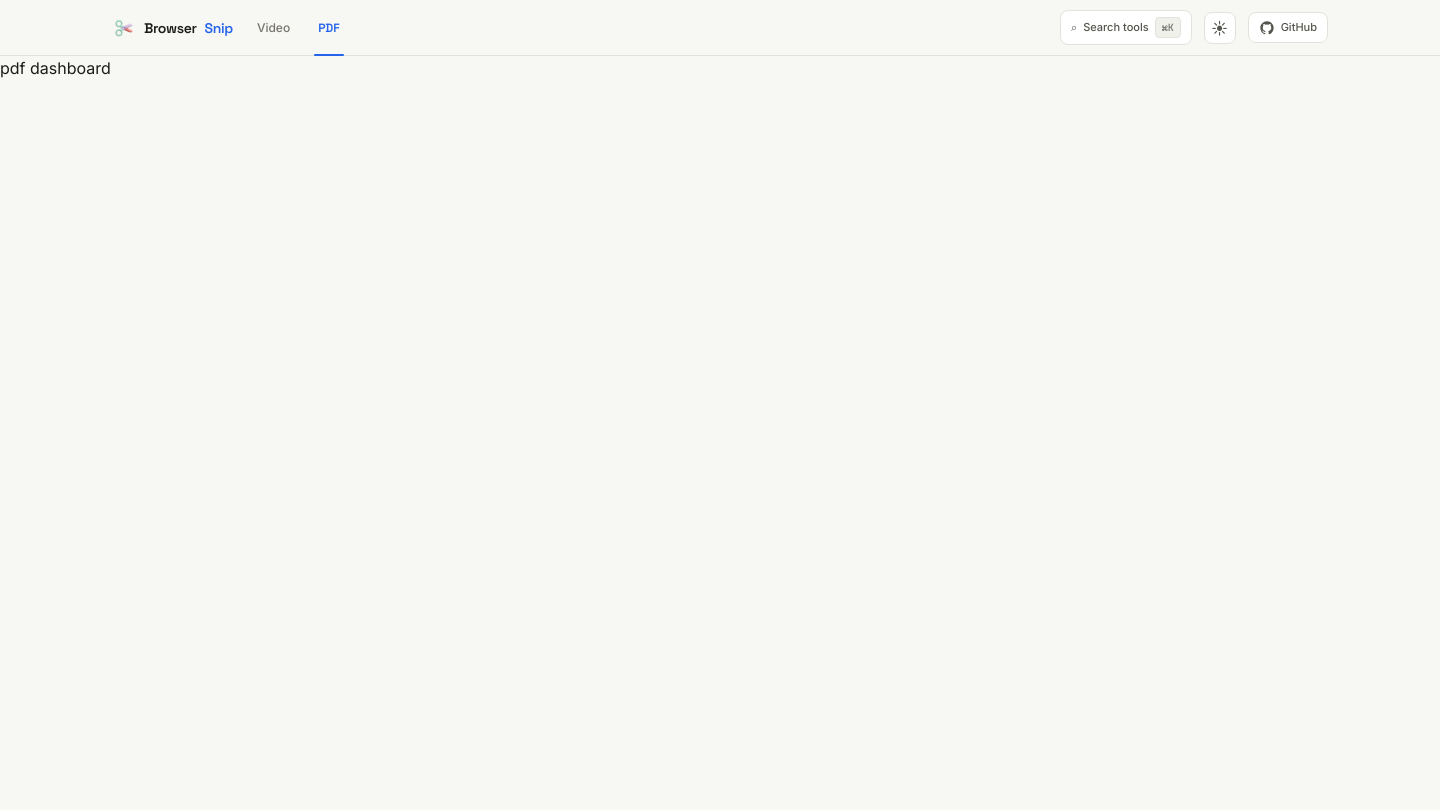
command palette › closes on a click of the row, not only on Enter
Press k
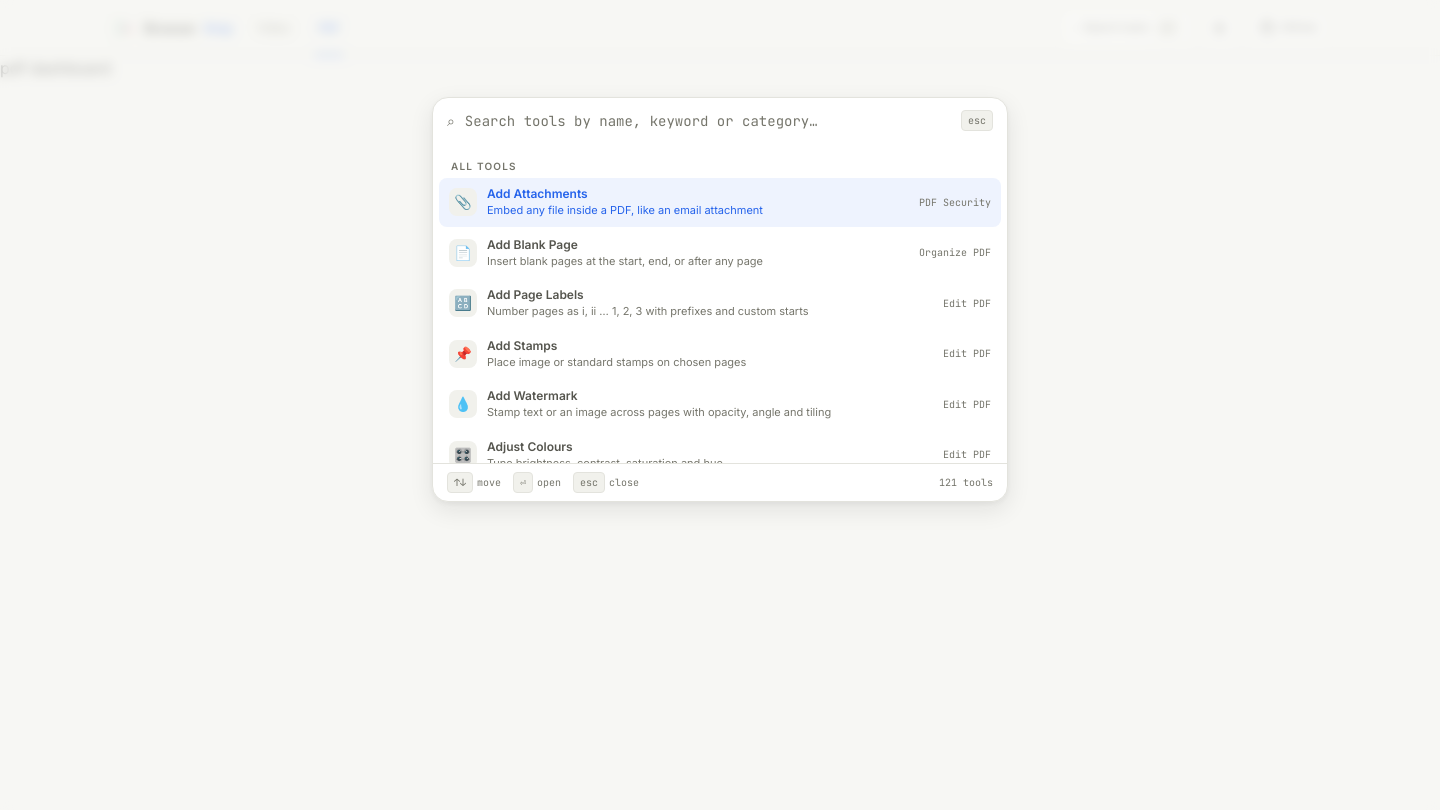
Type "merge" into the dropdown labelled "Search tools".
click(708, 121); type("merge")  # box [465,111,951,131]
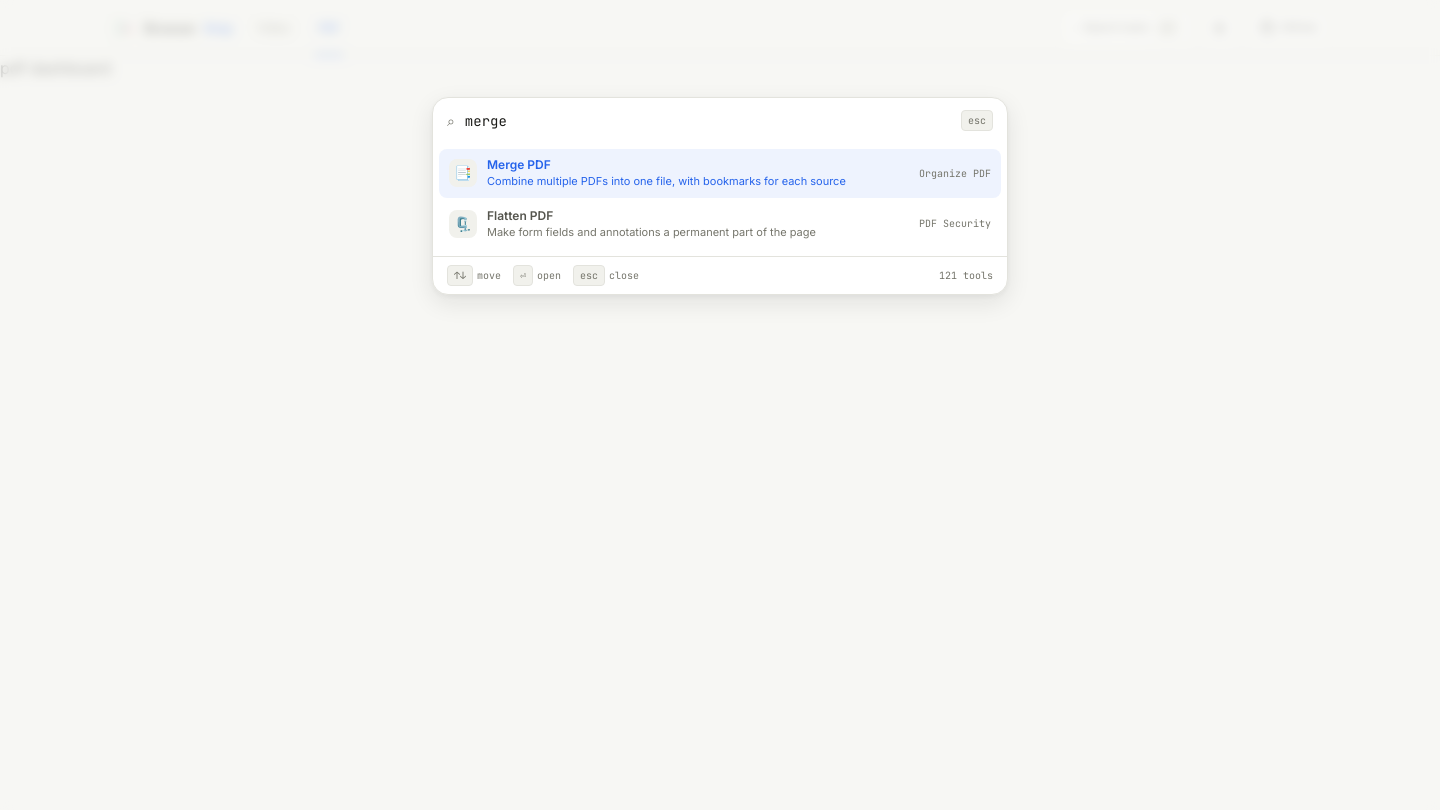
Result: the option with aria-label "Combine multiple PDFs into one file, with bookmarks for each" is shown
Click the option with aria-label "Combine multiple PDFs into one file, with bookmarks for each".
click(720, 173)  # box [439,149,1001,198]
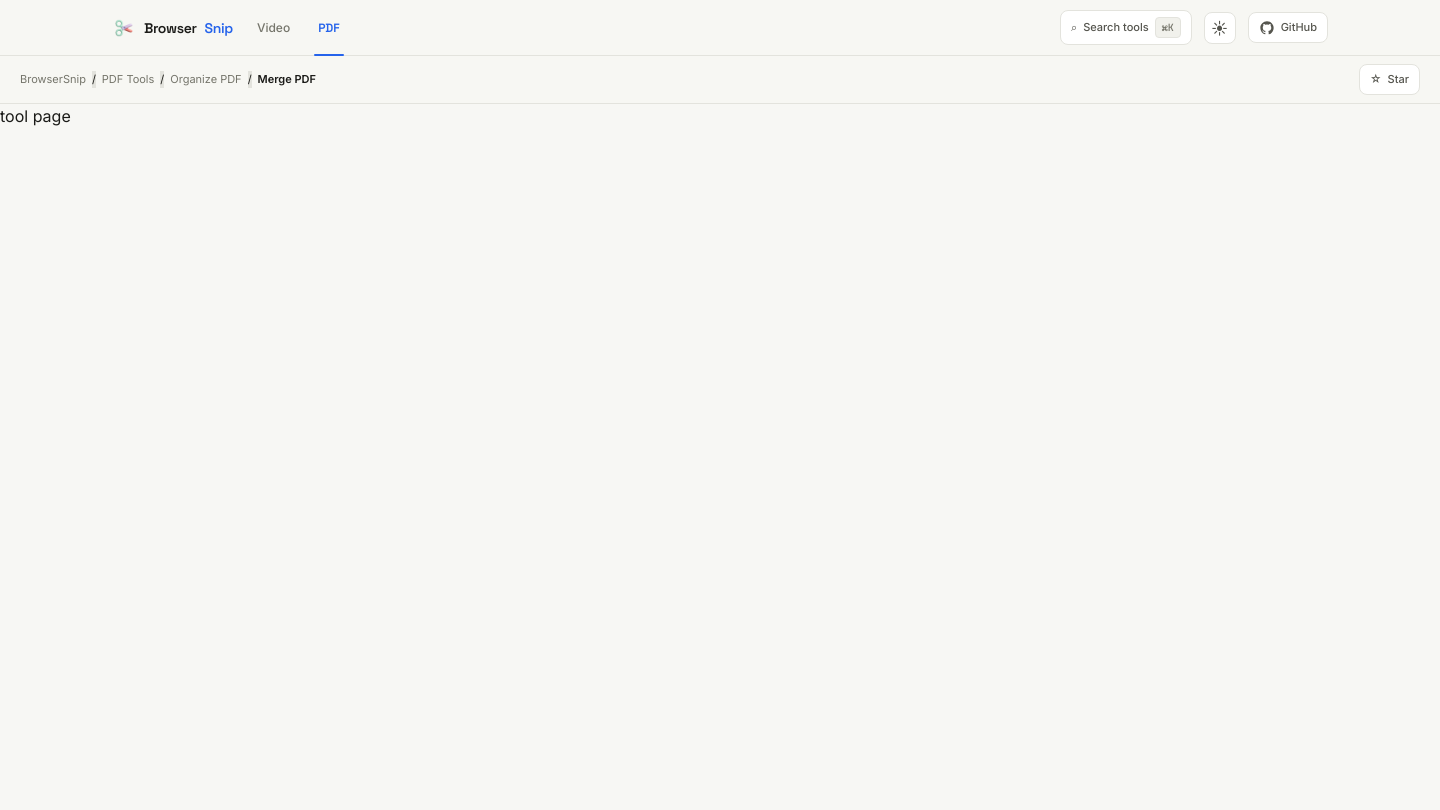
Result: the text "tool page" is shown at [0,106,71,126]
Result: the dialog is gone
